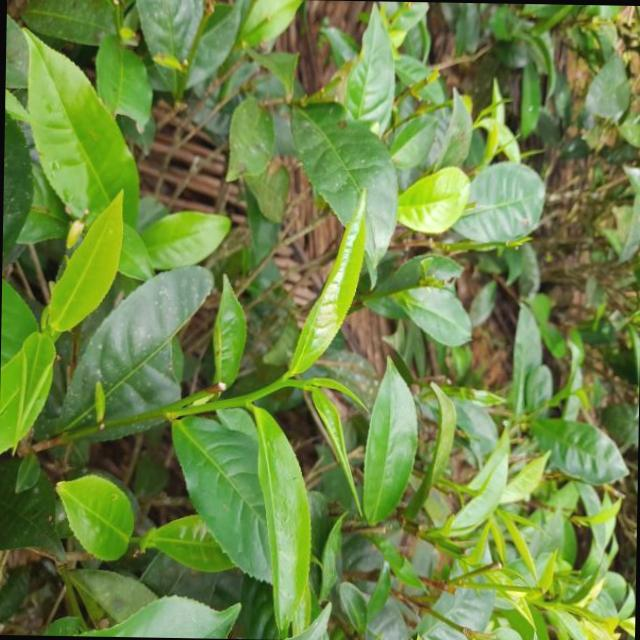Stem: (270, 379, 281, 391)
